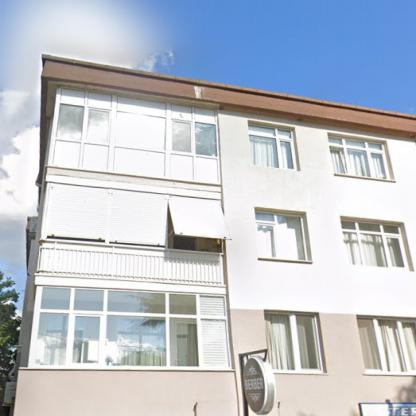window: (31, 287, 230, 368), (42, 185, 222, 252), (56, 102, 219, 156), (263, 312, 322, 370), (340, 218, 408, 266), (355, 319, 416, 371), (256, 210, 310, 260), (327, 136, 389, 178), (250, 124, 296, 168)
